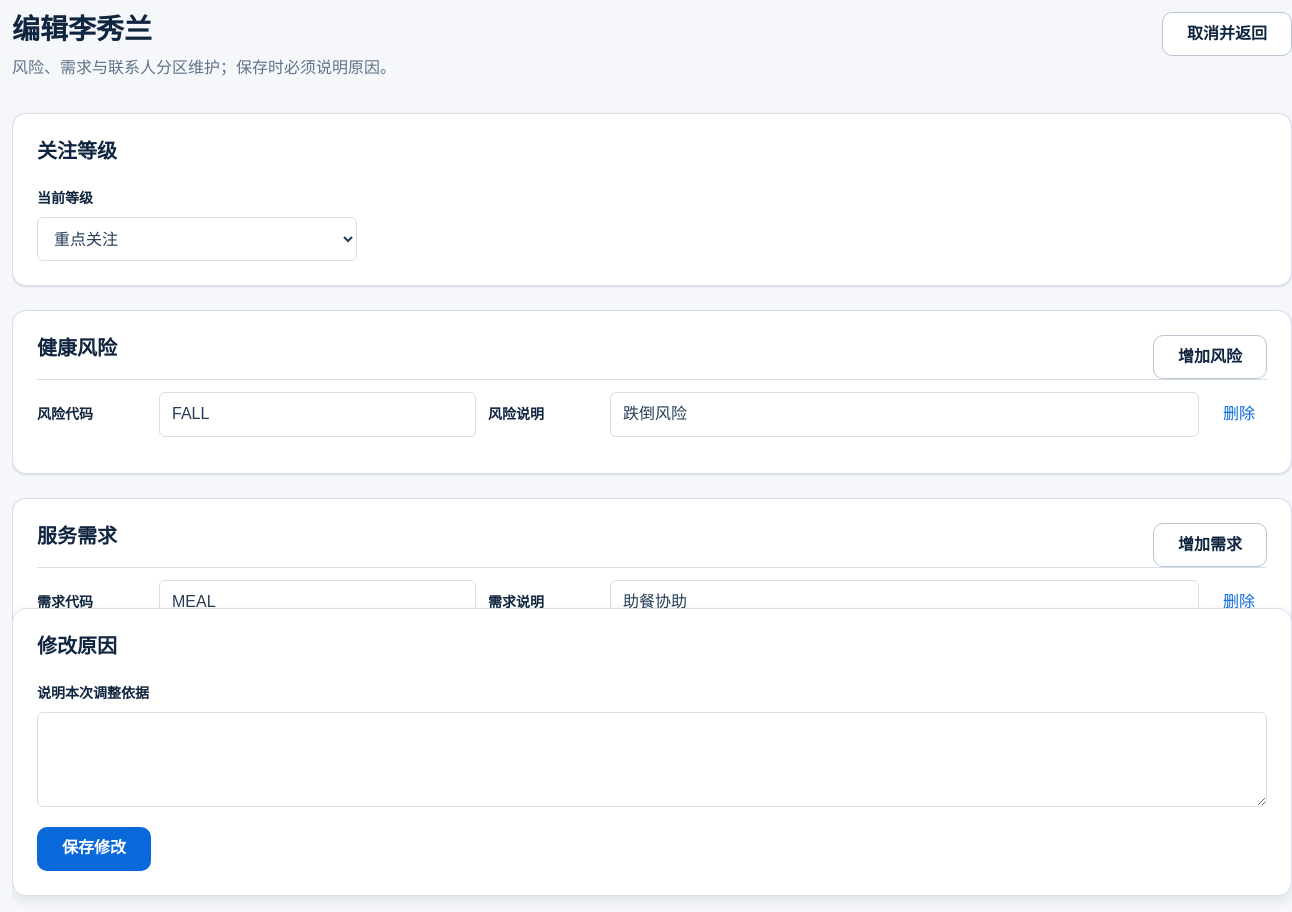
Test: ElderEditPage › keeps risks and service needs separate and blocks submission without a reason
Expected: the heading "编辑李秀兰" is shown, x1=12 y1=14 x2=152 y2=45
Expected: the heading "健康风险" is shown, x1=37 y1=335 x2=117 y2=361
What coordinates should you click on to do the following:
click the button "保存修改"
I would click on:
 (94, 849)
Its box is x1=37 y1=827 x2=151 y2=871.
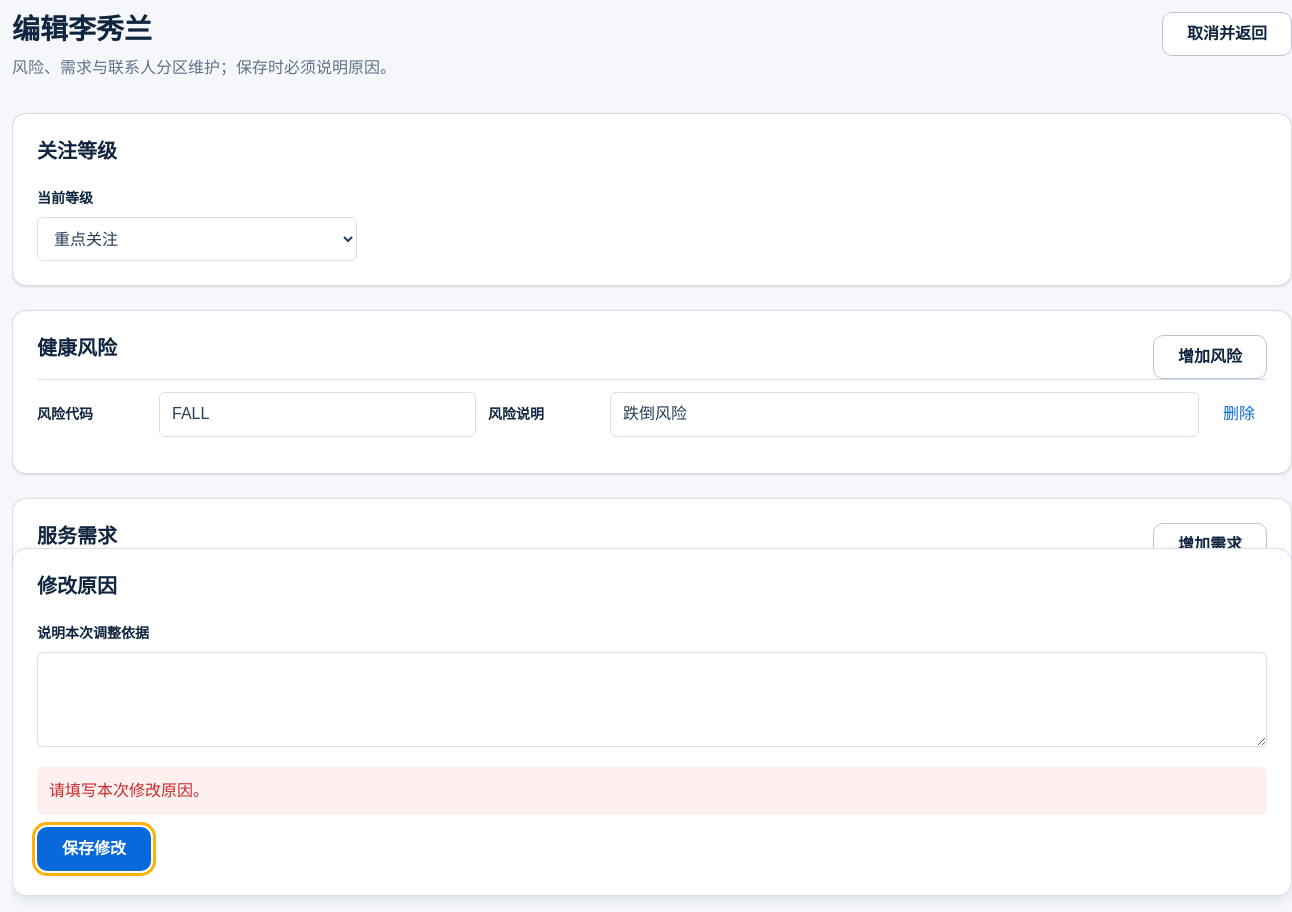
Expected: the text "请填写本次修改原因。" is shown, x1=37 y1=766 x2=1267 y2=815
